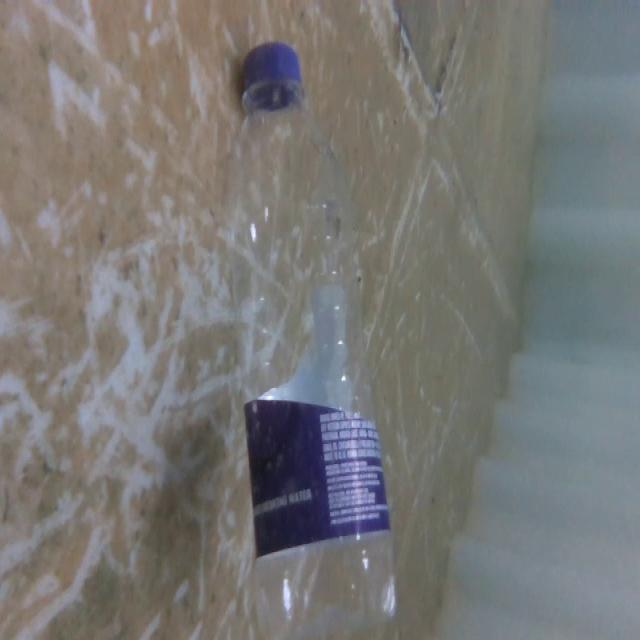plastic bottle: (211, 38, 403, 638)
